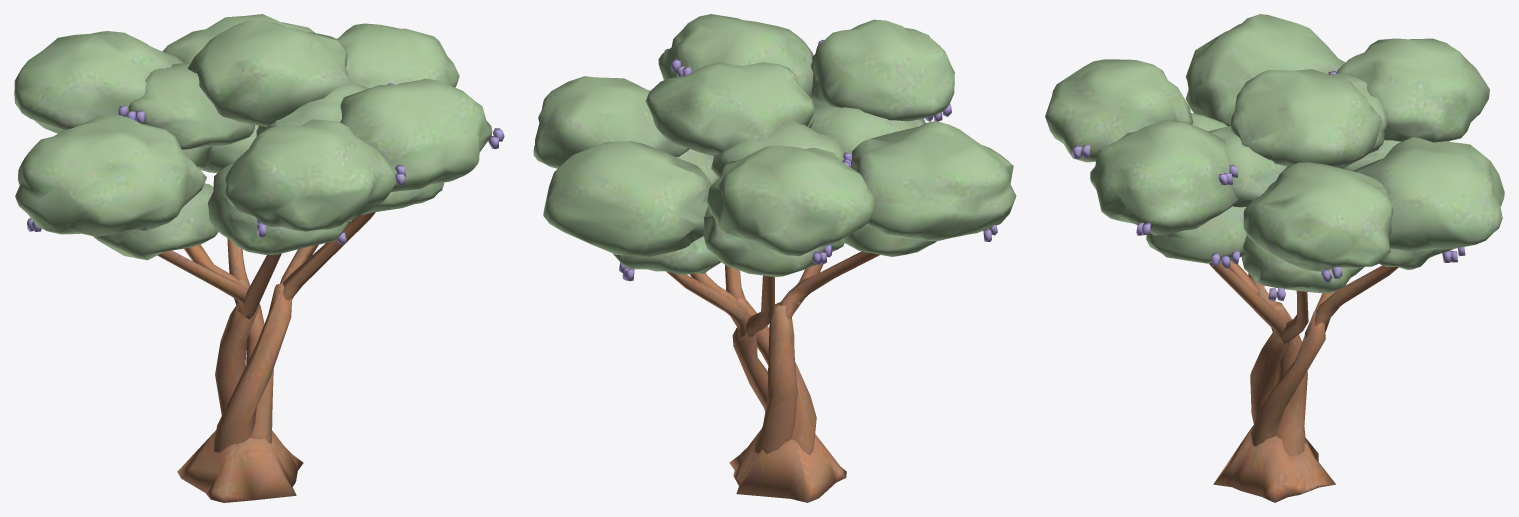
File: olive-tree.glb
3 renders of one model, left to right at view 1: azimuth 30°, elevation 25°; view 2: azimuth 150°, elevation 25°; view 3: azimuth 270°, elevation 25°, orthographic. The views are drawn at different scales.
Parts seen in each view (by area): view 1: olive-tree_body; view 2: olive-tree_body; view 3: olive-tree_body.
Boxes of the visible parts, x1,y1,x2,y2 form: olive-tree_body: (14, 14, 504, 502); olive-tree_body: (533, 14, 1016, 502); olive-tree_body: (1045, 14, 1504, 502).
Size of the model in its own units: 4.33 by 3.85 by 3.92.
Materials: 1 (1 with a texture image).
